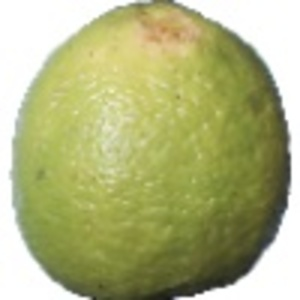limão: (11, 1, 291, 300)
